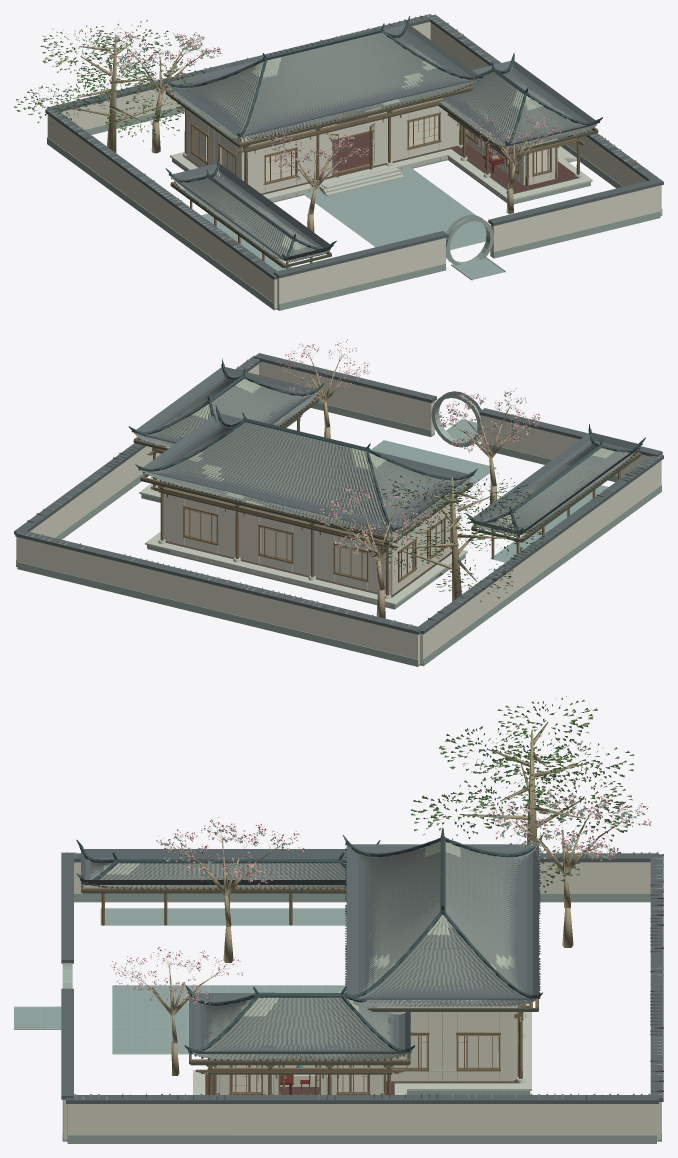
The model's file is longcuian.glb.
3 renders of one model, top to bottom at view 1: azimuth 30°, elevation 25°; view 2: azimuth 150°, elevation 25°; view 3: azimuth 270°, elevation 25°, orthographic. The views are drawn at different scales.
Visible parts, largest first — view 1: r15_longcuian_Sunwen_r18_temple_tile.001, r15_longcuian_Sunwen_r18_temple_roof.001, r15_longcuian_Sunwen_r18_temple_plaster.001, Mobile_longcuian_plants, Mobile_longcuian_paving, r15_longcuian_Sunwen_r18_temple_plaster.003, r15_longcuian_Sunwen_r18_temple_stone.001, r15_longcuian_Sunwen_r18_temple_wood.001, r15_longcuian_Sunwen_r18_temple_cutstone.001, r15_longcuian_Sunwen_r18_temple_tiledark.001, r15_longcuian_Sunwen_r18_temple_darkwood.001, Mobile_longcuian_floorwood (+3 smaller); view 2: r15_longcuian_Sunwen_r18_temple_plaster.001, r15_longcuian_Sunwen_r18_temple_tile.001, r15_longcuian_Sunwen_r18_temple_roof.001, Mobile_longcuian_plants, r15_longcuian_Sunwen_r18_temple_stone.001, r15_longcuian_Sunwen_r18_temple_plaster.003, r15_longcuian_Sunwen_r18_temple_wood.001, r15_longcuian_Sunwen_r18_temple_tiledark.001, r15_longcuian_Sunwen_r18_temple_cutstone.001, Mobile_longcuian_paving, r15_longcuian_Sunwen_r18_temple_darkwood.001, r15_longcuian_Sunwen_r18_temple_screen.002 (+1 smaller); view 3: r15_longcuian_Sunwen_r18_temple_tile.001, r15_longcuian_Sunwen_r18_temple_roof.001, r15_longcuian_Sunwen_r18_temple_plaster.001, Mobile_longcuian_plants, Mobile_longcuian_paving, r15_longcuian_Sunwen_r18_temple_stone.001, r15_longcuian_Sunwen_r18_temple_plaster.003, r15_longcuian_Sunwen_r18_temple_tiledark.001, r15_longcuian_Sunwen_r18_temple_wood.001, r15_longcuian_Sunwen_r18_temple_darkwood.001, r15_longcuian_Sunwen_r18_temple_cutstone.001, r15_longcuian_Sunwen_r18_temple_tilelight.001 (+2 smaller).
Boxes of the visible parts, box(x1,y1,x2,y2) form: r15_longcuian_Sunwen_r18_temple_tile.001: box(45, 14, 651, 276); r15_longcuian_Sunwen_r18_temple_roof.001: box(45, 14, 663, 279); r15_longcuian_Sunwen_r18_temple_plaster.001: box(47, 22, 661, 308); Mobile_longcuian_plants: box(14, 20, 562, 232); Mobile_longcuian_paving: box(201, 168, 504, 279); r15_longcuian_Sunwen_r18_temple_plaster.003: box(186, 91, 557, 193); r15_longcuian_Sunwen_r18_temple_stone.001: box(47, 107, 662, 310); r15_longcuian_Sunwen_r18_temple_wood.001: box(166, 86, 597, 268); r15_longcuian_Sunwen_r18_temple_cutstone.001: box(170, 142, 592, 201); r15_longcuian_Sunwen_r18_temple_tiledark.001: box(161, 16, 602, 260); r15_longcuian_Sunwen_r18_temple_darkwood.001: box(165, 88, 598, 267); Mobile_longcuian_floorwood: box(183, 132, 579, 194); r15_longcuian_Sunwen_r18_temple_plaster.001: box(16, 361, 661, 664); r15_longcuian_Sunwen_r18_temple_tile.001: box(20, 355, 663, 631); r15_longcuian_Sunwen_r18_temple_roof.001: box(14, 353, 663, 634); Mobile_longcuian_plants: box(276, 339, 544, 618); r15_longcuian_Sunwen_r18_temple_stone.001: box(16, 391, 661, 666); r15_longcuian_Sunwen_r18_temple_plaster.003: box(163, 481, 450, 594); r15_longcuian_Sunwen_r18_temple_wood.001: box(134, 397, 640, 595); r15_longcuian_Sunwen_r18_temple_tiledark.001: box(128, 358, 645, 534); r15_longcuian_Sunwen_r18_temple_cutstone.001: box(139, 479, 467, 606); Mobile_longcuian_paving: box(371, 419, 608, 562); r15_longcuian_Sunwen_r18_temple_darkwood.001: box(133, 397, 640, 597); r15_longcuian_Sunwen_r18_temple_screen.002: box(185, 509, 428, 578); r15_longcuian_Sunwen_r18_temple_tile.001: box(66, 844, 663, 1099); r15_longcuian_Sunwen_r18_temple_roof.001: box(61, 844, 663, 1103); r15_longcuian_Sunwen_r18_temple_plaster.001: box(63, 862, 661, 1140); Mobile_longcuian_plants: box(110, 696, 651, 1075); Mobile_longcuian_paving: box(14, 908, 346, 1053); r15_longcuian_Sunwen_r18_temple_stone.001: box(14, 893, 661, 1143); r15_longcuian_Sunwen_r18_temple_plaster.003: box(216, 1001, 517, 1094); r15_longcuian_Sunwen_r18_temple_tiledark.001: box(76, 828, 542, 1061); r15_longcuian_Sunwen_r18_temple_wood.001: box(82, 885, 538, 1094); r15_longcuian_Sunwen_r18_temple_darkwood.001: box(81, 884, 538, 1094); r15_longcuian_Sunwen_r18_temple_cutstone.001: box(193, 991, 531, 1094); r15_longcuian_Sunwen_r18_temple_tilelight.001: box(103, 841, 514, 1016).
Bounding box in the file's own units: 37.71 × 11.44 × 36.38.
